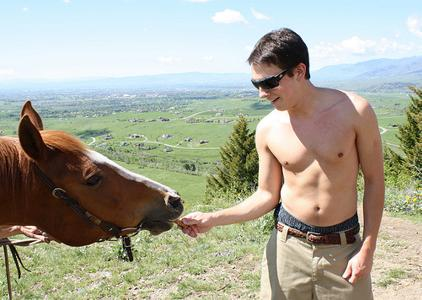person: (175, 29, 388, 300)
